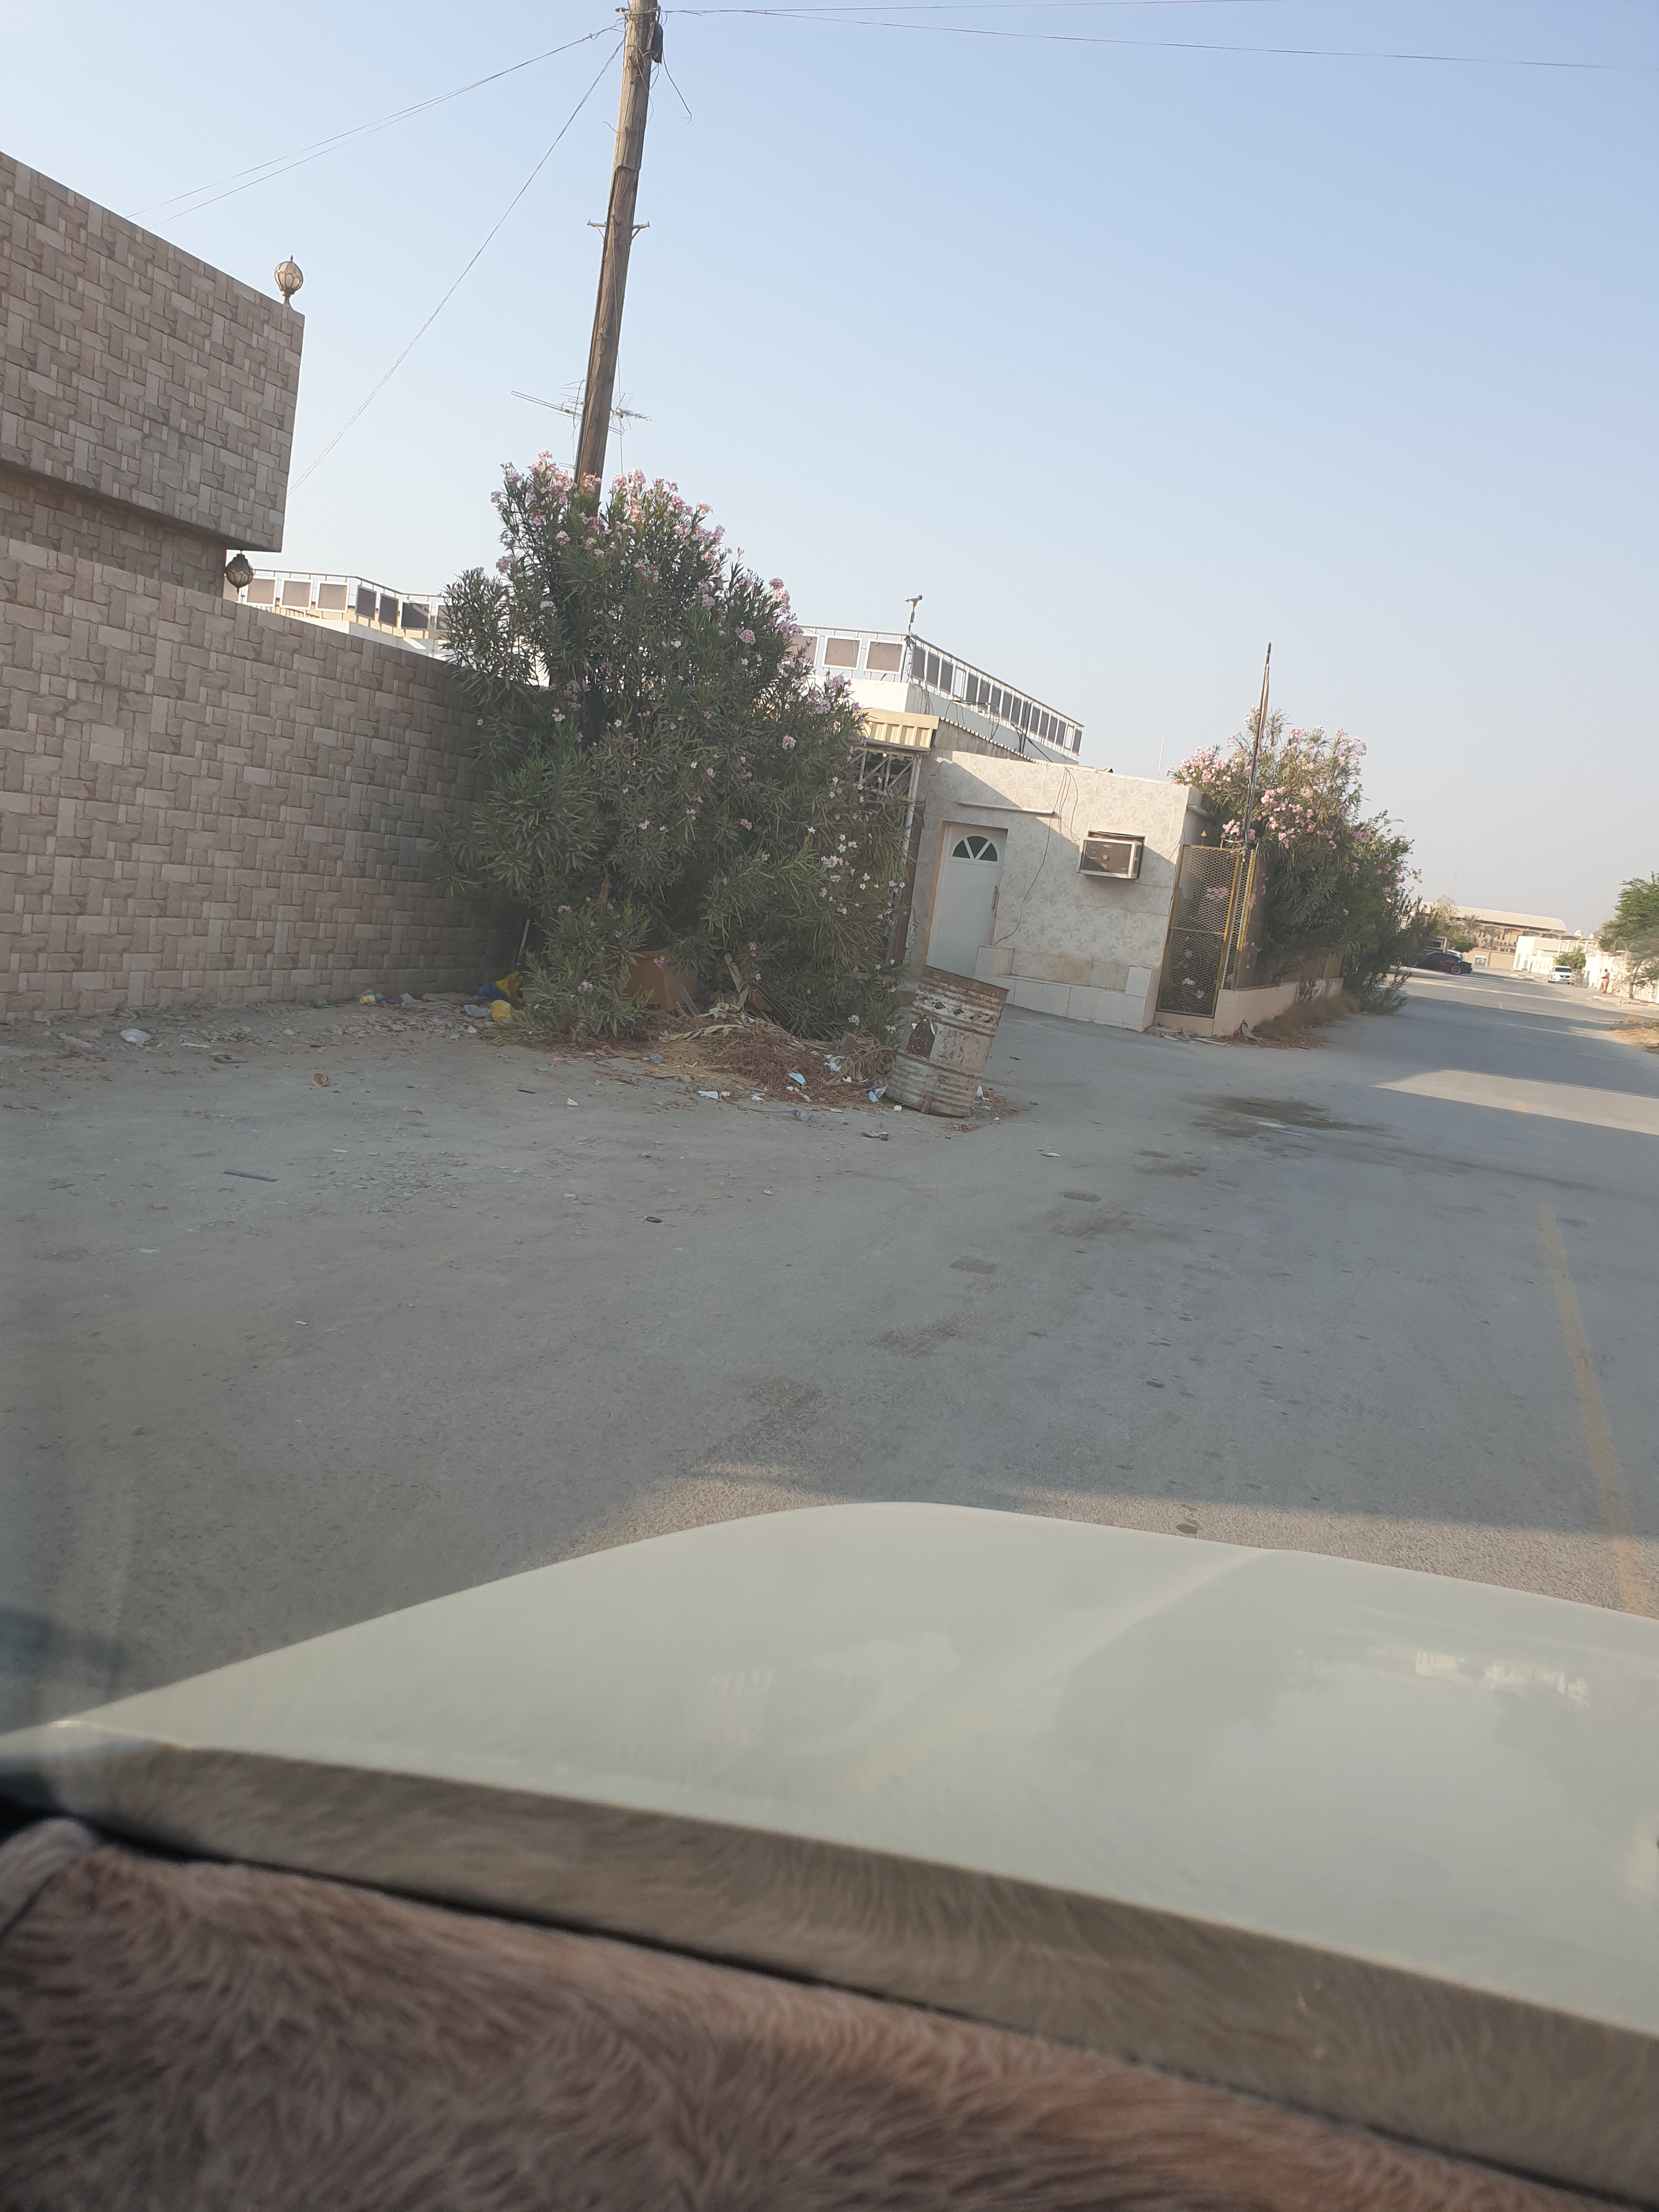fallen_trees: (690, 1033, 882, 1127)
